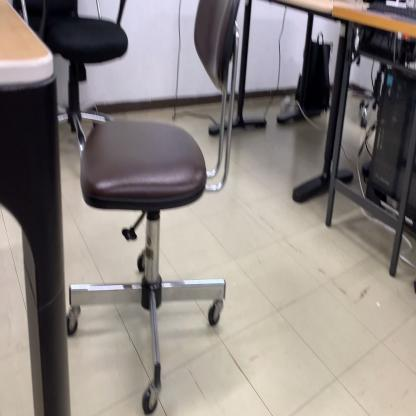chair: (64, 0, 242, 416), (43, 9, 132, 162)
